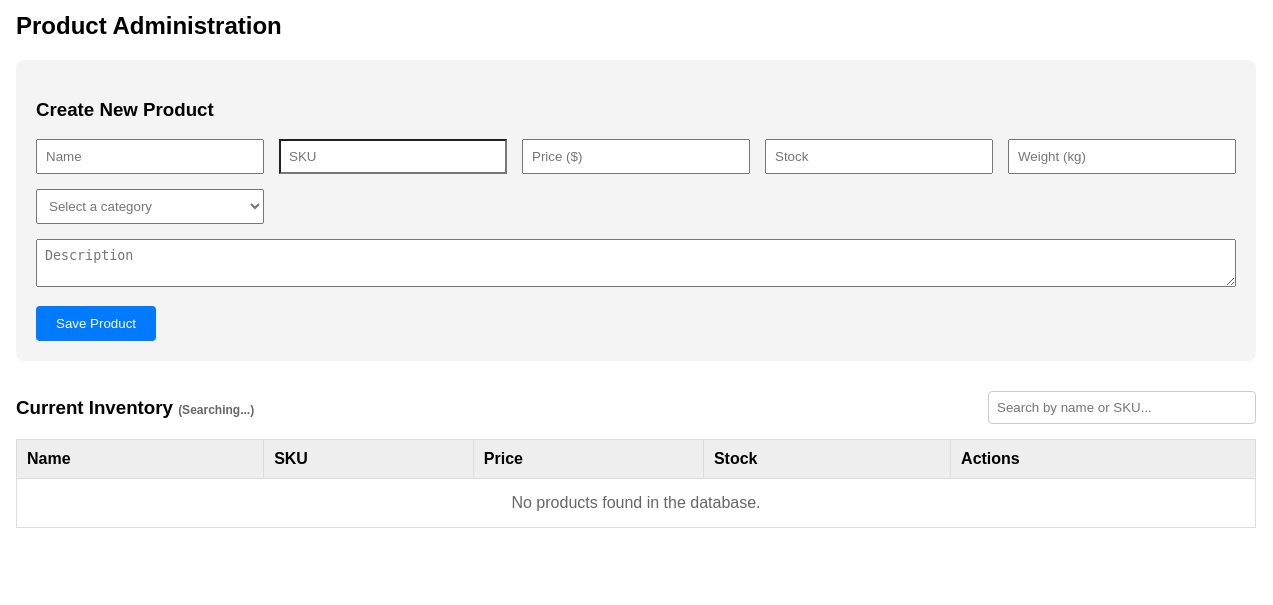
Test: ProductAdmin Component › displays error message when product creation fails with server response
The width and height of the screenshot is (1273, 605).
Type "Keyboard" into the field with placeholder "Name". click: x=150, y=157
box: x1=36 y1=139 x2=264 y2=174
Type "SKU-EXISTING" into the field with placeholder "SKU". click: x=393, y=157
box: x1=279 y1=139 x2=507 y2=174
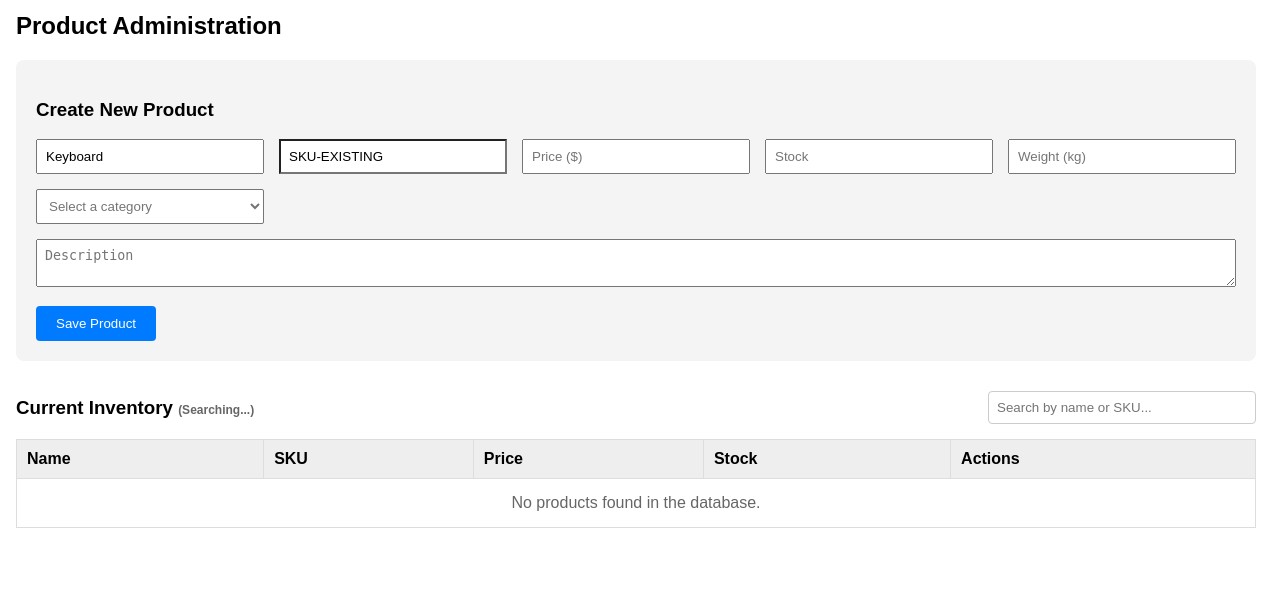
Type "45" into the number field with placeholder "Price ($)". click: x=636, y=157
box: x1=522 y1=139 x2=750 y2=174
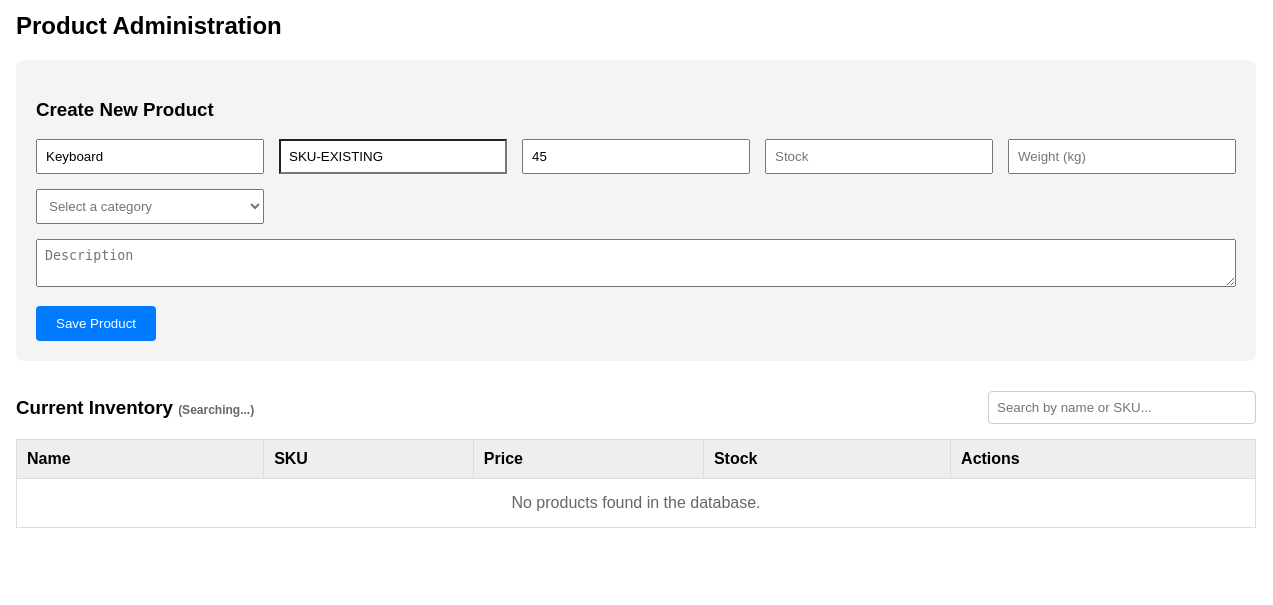
Type "30" into the number field with placeholder "Stock". click: x=879, y=157
box: x1=765 y1=139 x2=993 y2=174
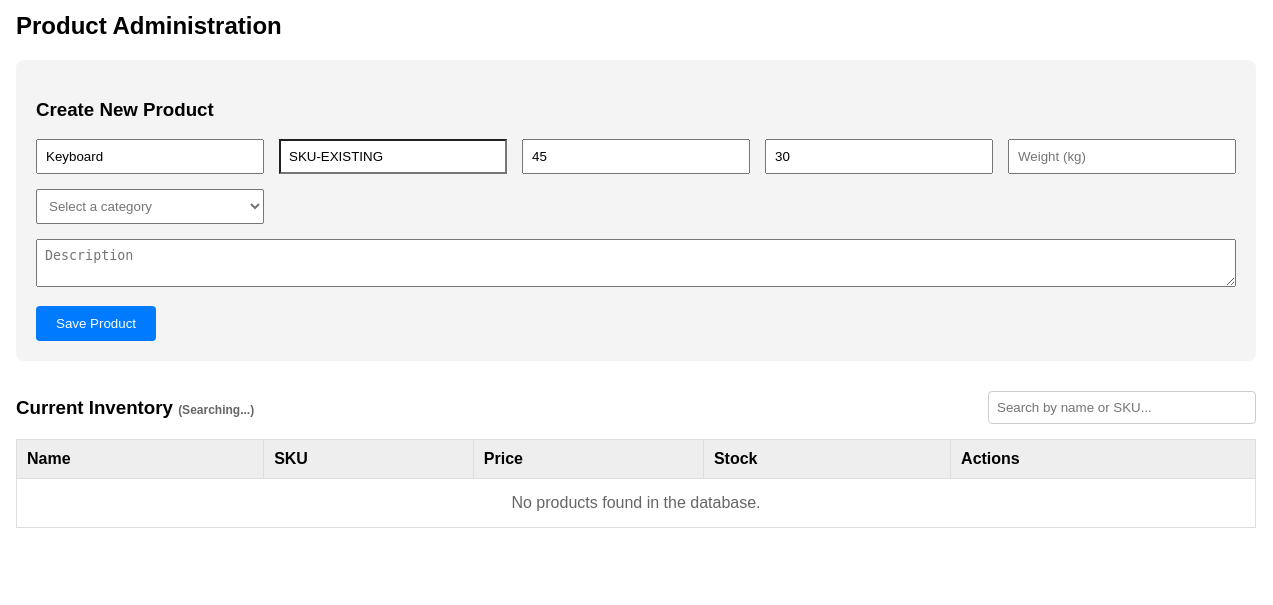
Type "0.8" into the number field with placeholder "Weight (kg)". click: x=1122, y=157
box: x1=1008 y1=139 x2=1236 y2=174
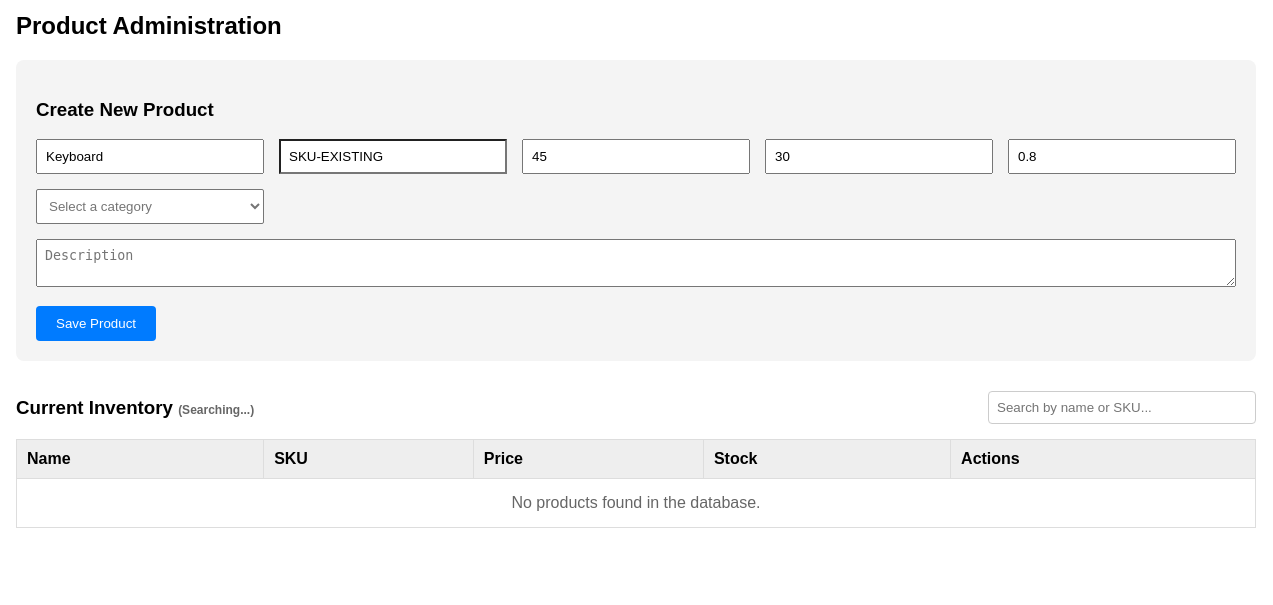
Select "Electronics" in the dropdown. click: x=150, y=207
box: x1=36 y1=189 x2=264 y2=224
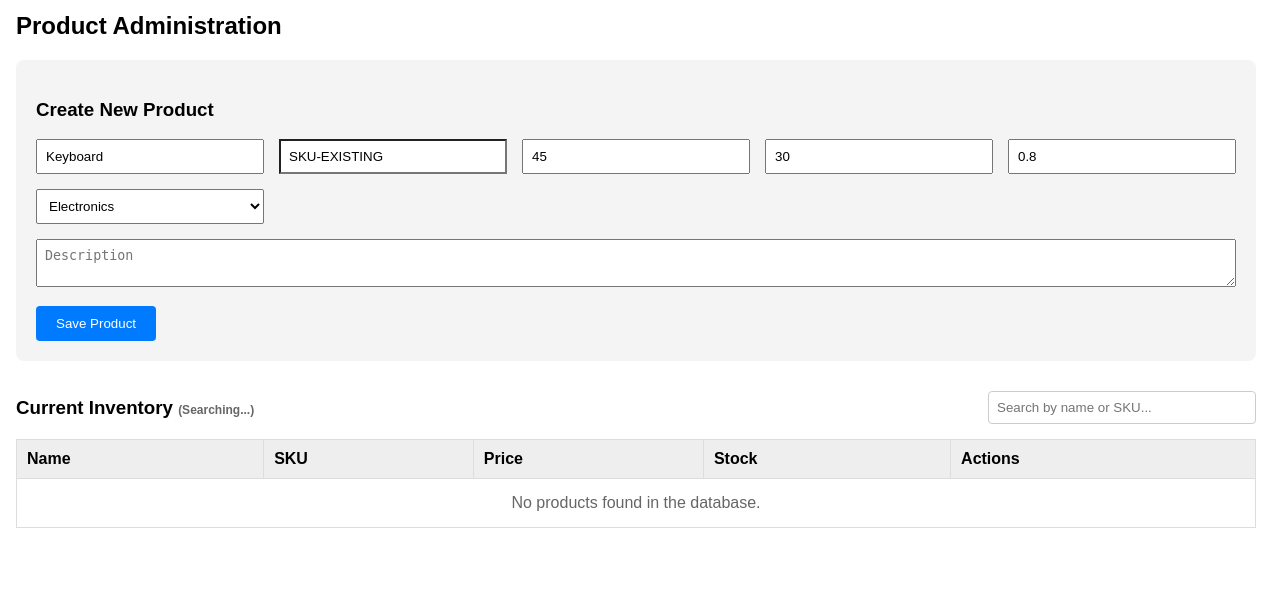
Click the button "Save Product". click: x=96, y=324
box: x1=36 y1=306 x2=156 y2=341
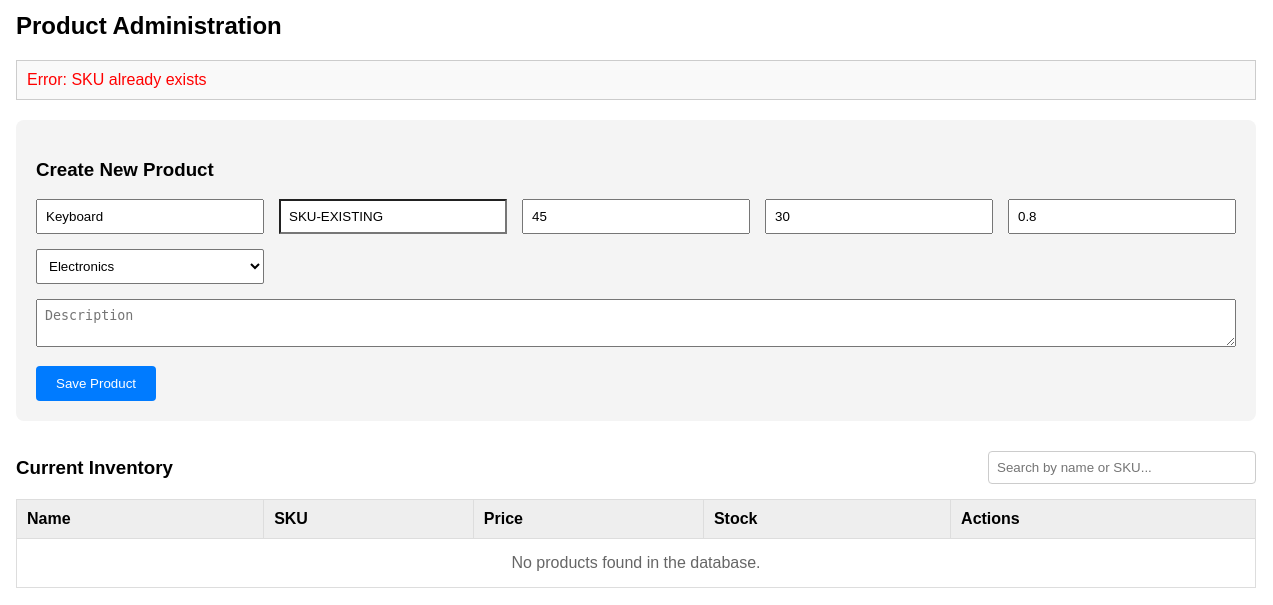
Now the text "Error: SKU already exists" is shown, box x1=16 y1=60 x2=1256 y2=100
